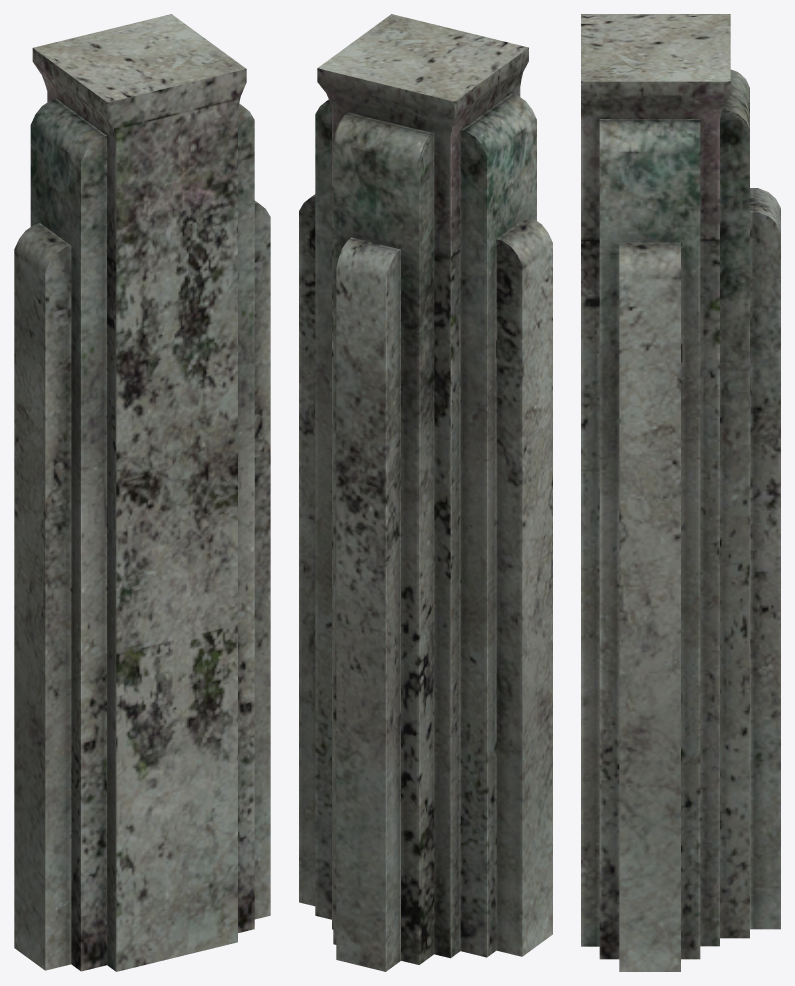
The model's file is Pillar_03.obj.
3 renders of one model, left to right at view 1: azimuth 30°, elevation 25°; view 2: azimuth 150°, elevation 25°; view 3: azimuth 270°, elevation 25°, orthographic.
Visible parts, largest first — view 1: Pillar_03; view 2: Pillar_03; view 3: Pillar_03.
Part boxes in pixels (bbox=[...]): Pillar_03: bbox=[14, 14, 270, 971]; Pillar_03: bbox=[299, 14, 552, 971]; Pillar_03: bbox=[581, 14, 780, 971].
Size of the model in its own units: 104 by 384 by 80.04.
1 material, 1 textured.
